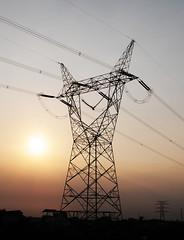power_tower: (44, 37, 151, 222)
